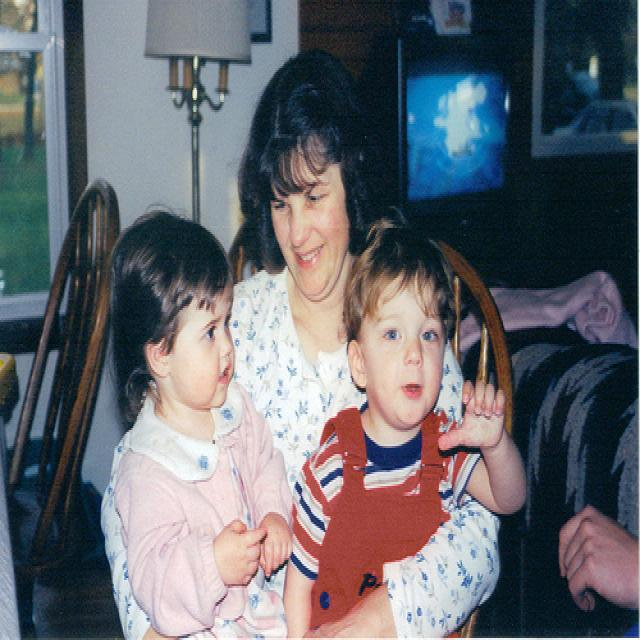light_vehicle: (545, 78, 639, 142)
